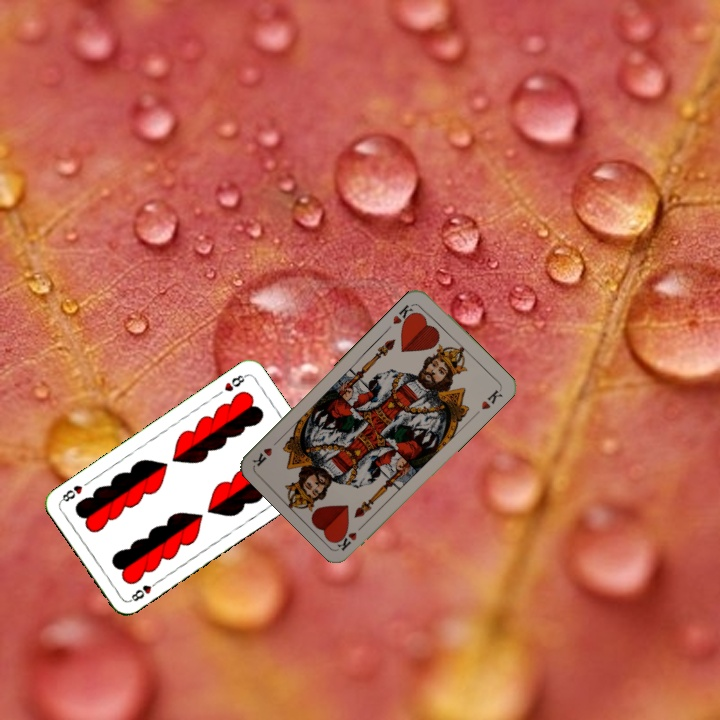H8: (125, 577, 161, 605), (220, 370, 249, 394)
HK: (333, 519, 368, 553), (389, 300, 419, 329)
